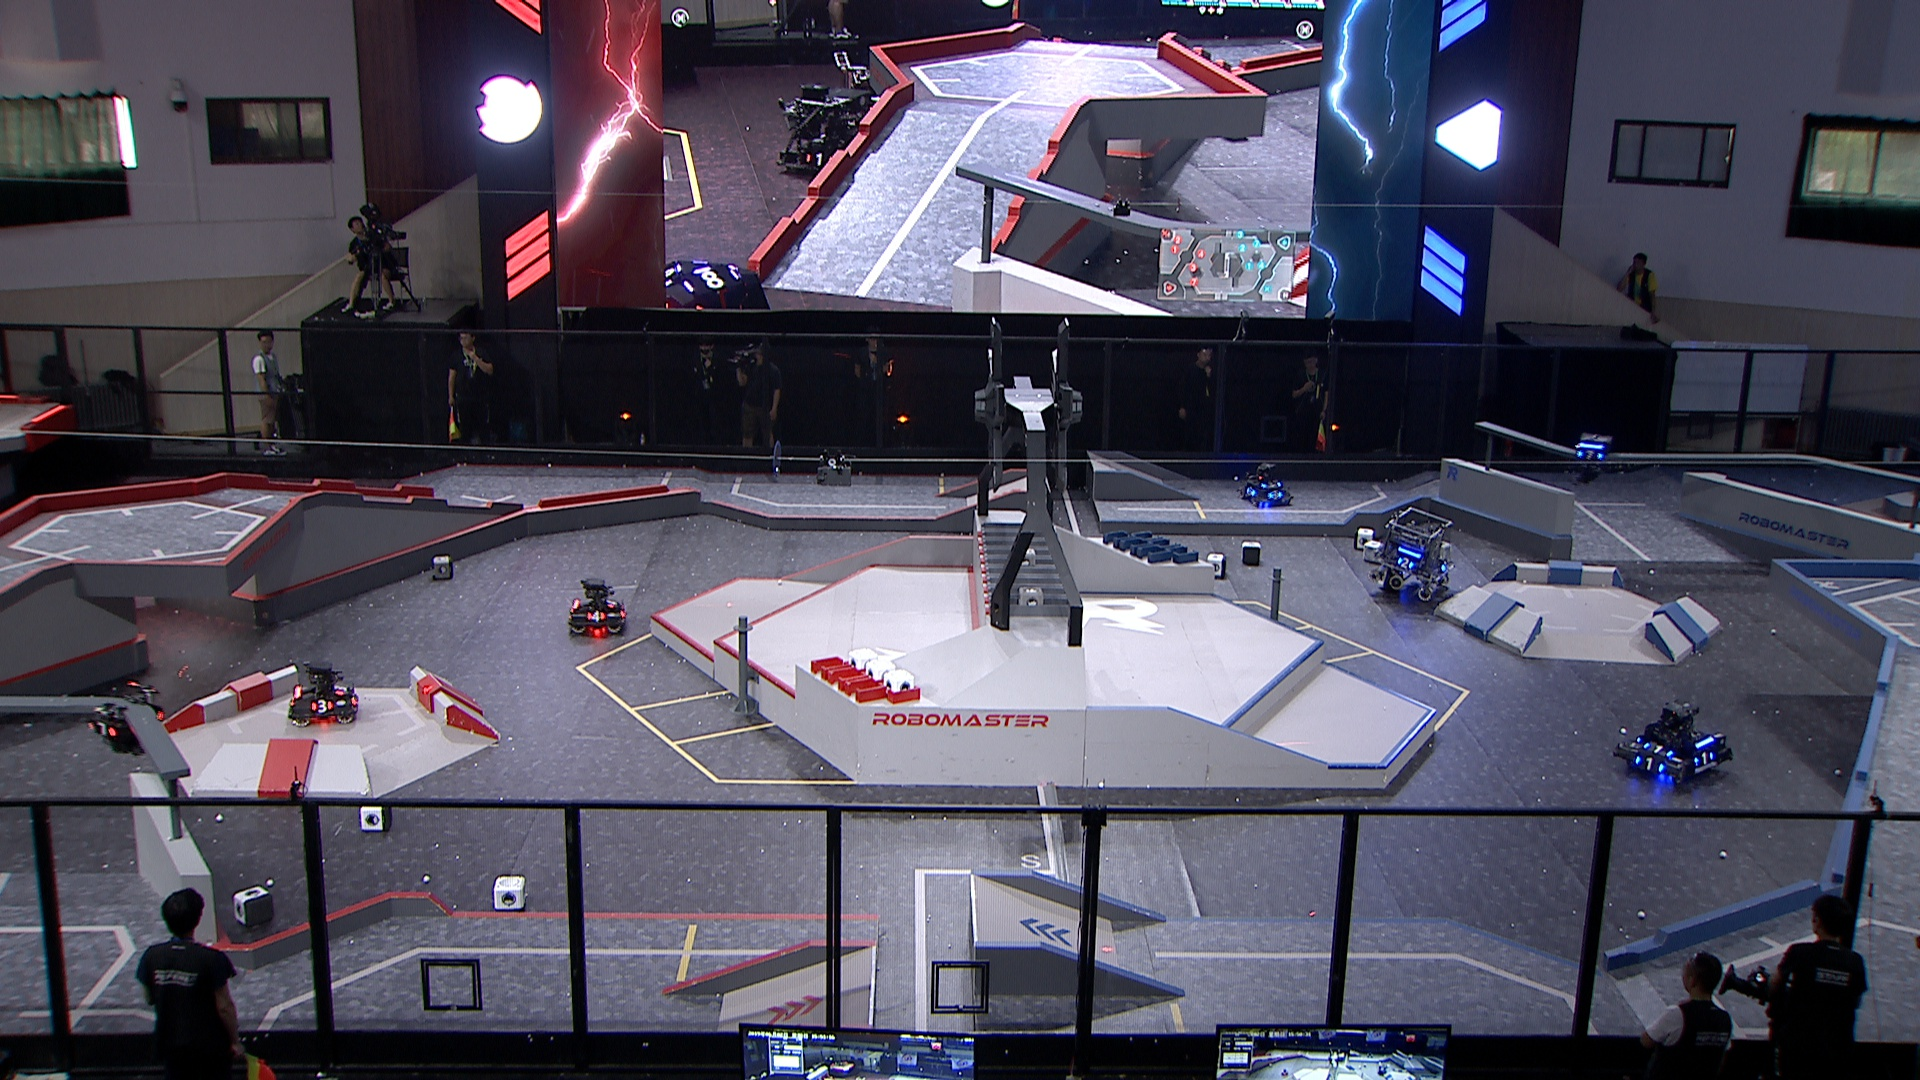armor: (1631, 756, 1667, 774), (84, 721, 117, 740), (1640, 741, 1673, 757), (1693, 749, 1717, 767), (309, 698, 334, 713), (1576, 450, 1604, 463), (584, 611, 607, 624), (1396, 556, 1415, 571), (1265, 488, 1284, 501), (334, 684, 351, 698), (1259, 481, 1283, 491), (1244, 487, 1261, 498), (1437, 560, 1452, 574), (604, 599, 618, 609)
car: (1611, 698, 1733, 790), (1364, 506, 1461, 603), (284, 659, 361, 727), (566, 578, 628, 637), (1237, 462, 1296, 508)
ignore: (775, 83, 866, 178), (659, 258, 773, 314), (828, 54, 882, 111)
watcher: (79, 679, 167, 756), (1567, 434, 1621, 485)
